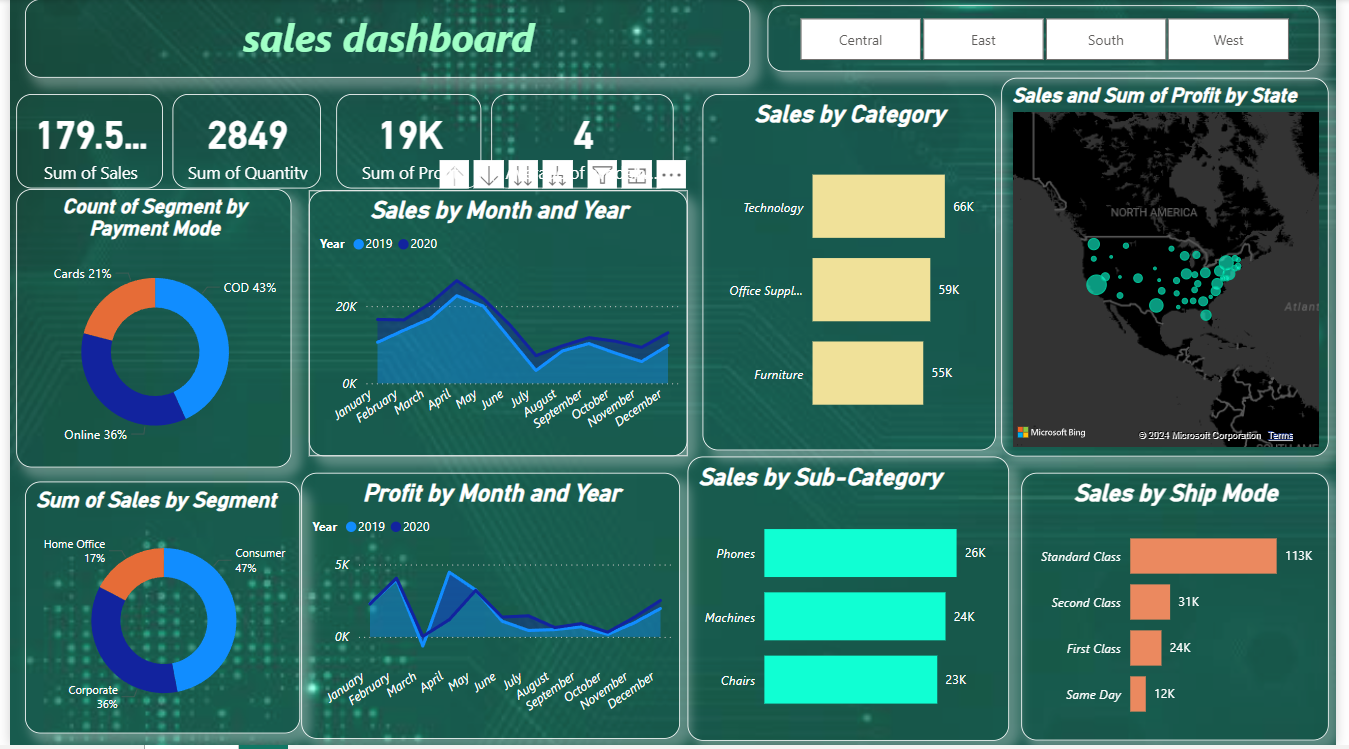

Layout of this report page (visuals, bound fields, positions):
{"tool":"powerbi","page":{"name":"Page 1","canvas":[1280,720],"ordinal":0},"visuals":[{"type":"clusteredBarChart","title":" Sales by Category","fields":{"Category":["store_sales.Category"],"Y":["Sum(store_sales.Sales)"]},"box":[668.6,91.4,282.9,344.3],"z":0},{"type":"clusteredBarChart","title":" Sales by Sub-Category","fields":{"Category":["store_sales.Sub-Category"],"Y":["Sum(store_sales.Sales)"]},"box":[654.3,441.4,310,274.3],"z":1000},{"type":"stackedAreaChart","title":"Sales by Month and Year","fields":{"Y":["Sum(store_sales.Sales)"],"Category":["store_sales.Order Date.Variation.Date Hierarchy.Month","store_sales.Order Date.Variation.Date Hierarchy.Day"],"Series":["store_sales.Order Date.Variation.Date Hierarchy.Year"]},"box":[288.6,184.3,365.7,257.1],"z":2000},{"type":"map","title":" Sales and Sum of Profit by State","fields":{"Category":["store_sales.State"],"Size":["Sum(store_sales.Sales)"]},"box":[957.1,75.7,315.7,365.7],"z":3000},{"type":"donutChart","fields":{"Category":["store_sales.Segment"],"Y":["Sum(store_sales.Sales)"]},"box":[14.3,465.7,265.7,242.9],"z":4000},{"type":"donutChart","title":"Count of Segment by Payment Mode","fields":{"Category":["store_sales.Payment Mode"],"Y":["CountNonNull(store_sales.Segment)"]},"box":[5.7,182.9,265.7,268.6],"z":5000},{"type":"clusteredBarChart","title":" Sales by Ship Mode","fields":{"Category":["store_sales.Ship Mode"],"Y":["Sum(store_sales.Sales)"]},"box":[975.7,457.1,297.1,258.6],"z":6000},{"type":"slicer","fields":{"Values":["store_sales.Region"]},"box":[731.4,5.7,532.9,64.3],"z":7000},{"type":"textbox","box":[14.3,0,700,75.7],"z":8000},{"type":"card","fields":{"Values":["Sum(store_sales.Sales)"]},"box":[5.7,91.4,141.4,91.4],"z":9000},{"type":"card","fields":{"Values":["Sum(store_sales.Quantity)"]},"box":[157.1,91.4,142.9,91.4],"z":10000},{"type":"card","fields":{"Values":["Sum(store_sales.Profit)"]},"box":[314.3,91.4,140,91.4],"z":11000},{"type":"card","fields":{"Values":["Avg(store_sales.avgdelivery)"]},"box":[464.3,91.4,175.7,91.4],"z":12000},{"type":"stackedAreaChart","title":"Profit by Month and Year","fields":{"Category":["store_sales.Order Date.Variation.Date Hierarchy.Month","store_sales.Order Date.Variation.Date Hierarchy.Day"],"Series":["store_sales.Order Date.Variation.Date Hierarchy.Year"],"Y":["Sum(store_sales.Profit)"]},"box":[281.4,457.1,365.7,257.1],"z":13000}]}

Visuals, with their boxes on the page's 1280x720 design canvas (x1, y1, x2, y2). These are canvas units, not pixel positions in the 1349x749 screenshot, which may show the page scaled, cropped or inside an application window:
" Sales by Category" clusteredBarChart: region(669, 91, 952, 436)
" Sales by Sub-Category" clusteredBarChart: region(654, 441, 964, 716)
"Sales by Month and Year" stackedAreaChart: region(289, 184, 654, 441)
" Sales and Sum of Profit by State" map: region(957, 76, 1273, 441)
donutChart - store_sales.Segment x Sum(store_sales.Sales): region(14, 466, 280, 709)
"Count of Segment by Payment Mode" donutChart: region(6, 183, 271, 452)
" Sales by Ship Mode" clusteredBarChart: region(976, 457, 1273, 716)
slicer - store_sales.Region: region(731, 6, 1264, 70)
textbox: region(14, 0, 714, 76)
card - Sum(store_sales.Sales): region(6, 91, 147, 183)
card - Sum(store_sales.Quantity): region(157, 91, 300, 183)
card - Sum(store_sales.Profit): region(314, 91, 454, 183)
card - Avg(store_sales.avgdelivery): region(464, 91, 640, 183)
"Profit by Month and Year" stackedAreaChart: region(281, 457, 647, 714)
